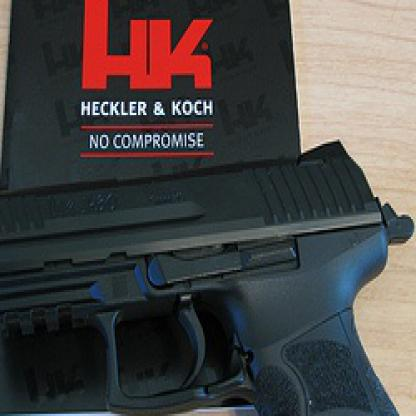gun: (0, 141, 415, 414)
